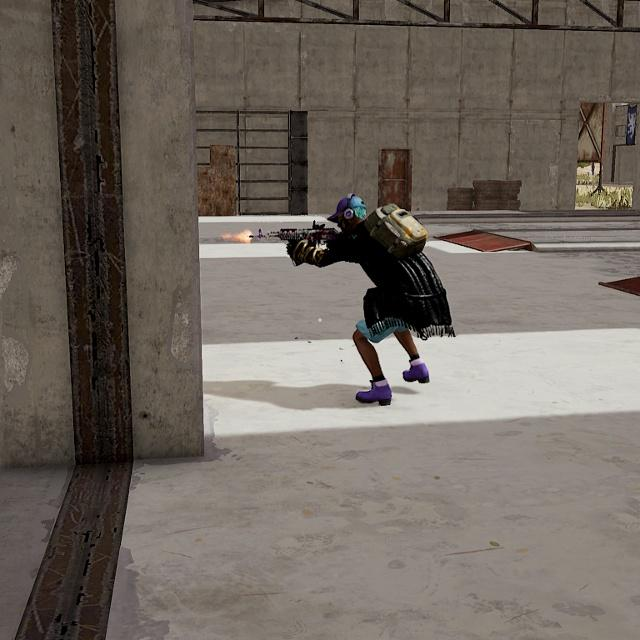head: (328, 193, 370, 238)
people: (310, 189, 445, 409)
